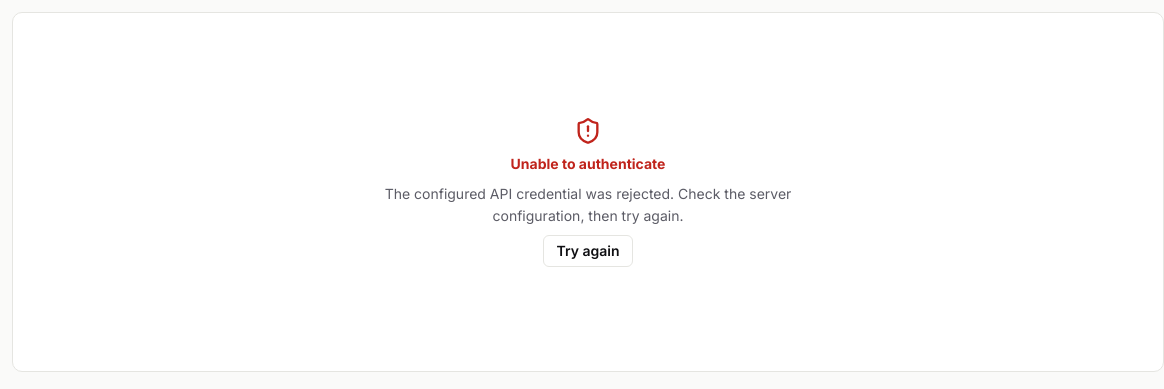
Test: AuthenticationBoundary › replaces route content after an unauthorized error and can retry
The width and height of the screenshot is (1164, 389).
Later steps or results of the test are not shown.
Expected: the message shows "Unable to authenticate", [511, 156, 665, 172]
Expected: the text "Protected route content" is not shown
Click the button "Try again". click: x=588, y=250
box: [544, 234, 633, 266]
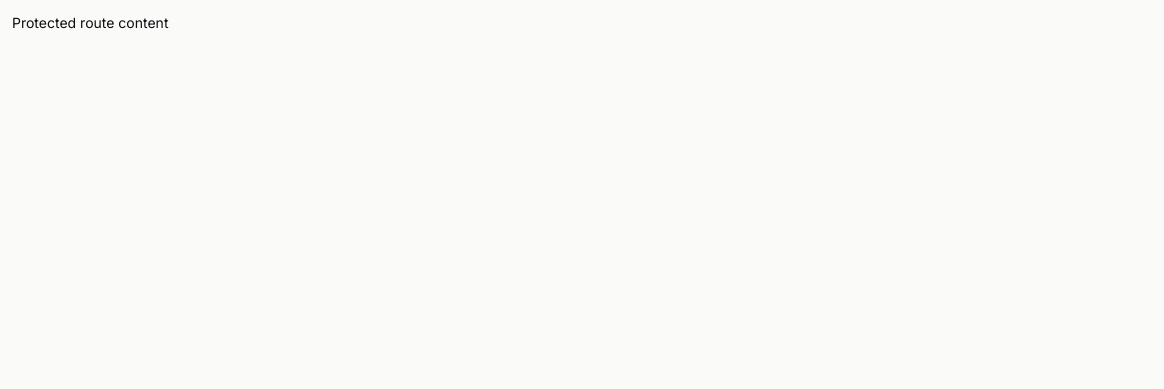
Result: the text "Protected route content" is shown at [12, 14, 168, 31]
